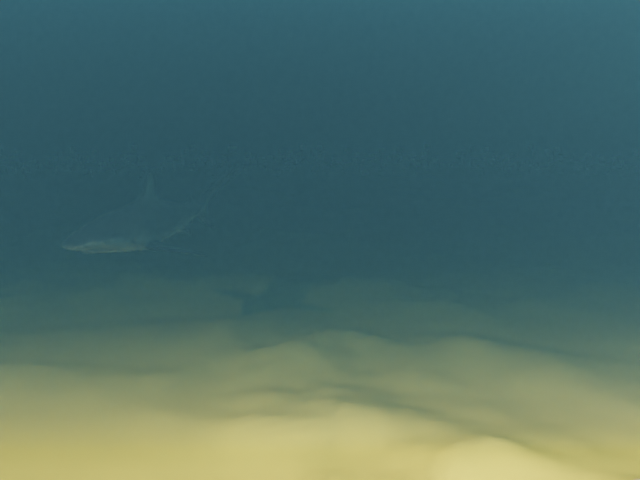Carribean Shark.001: (61, 166, 240, 255)
